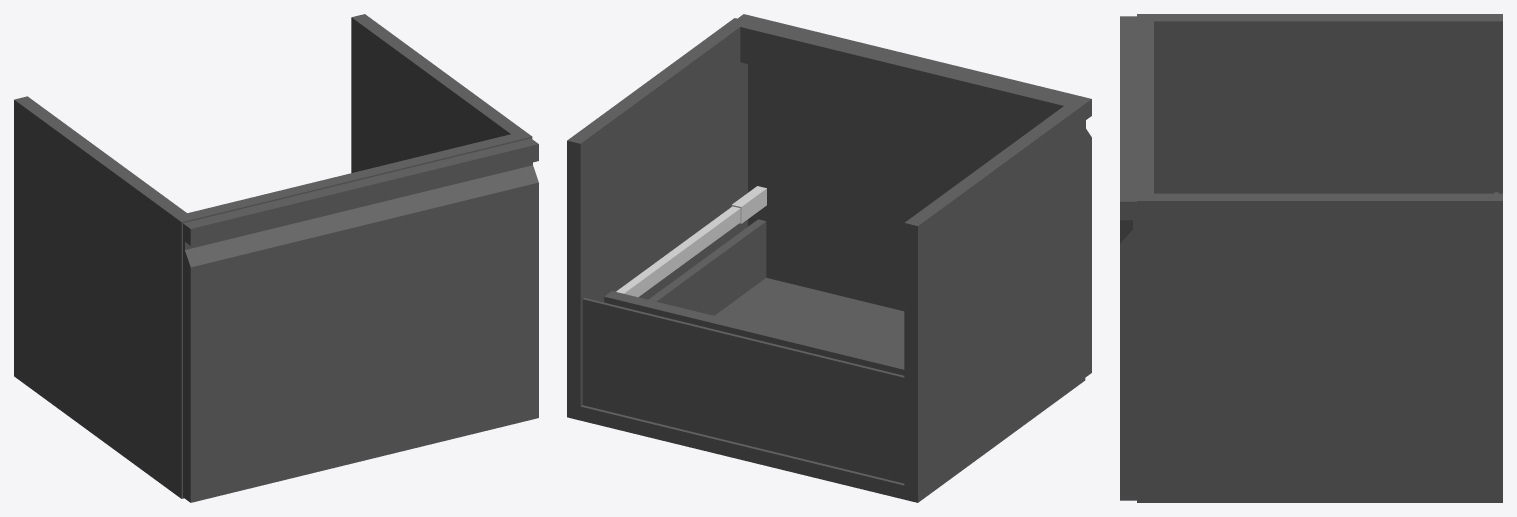
File: AEC_45672.glb
3 views of the same model, side by side, from view 1: azimuth 30°, elevation 25°; view 2: azimuth 150°, elevation 25°; view 3: azimuth 270°, elevation 25° (orthographic). The views are drawn at different scales.
Parts seen in each view (by area): view 1: 0; view 2: 0; view 3: 0.
Boxes of the visible parts, box(x1,y1,x2,y2) form: 0: box(14, 14, 538, 502); 0: box(567, 14, 1091, 502); 0: box(1120, 14, 1502, 502).
Bounding box in the file's own units: 0.52 × 0.392 × 0.45.
Materials: 1 (1 with a texture image).
